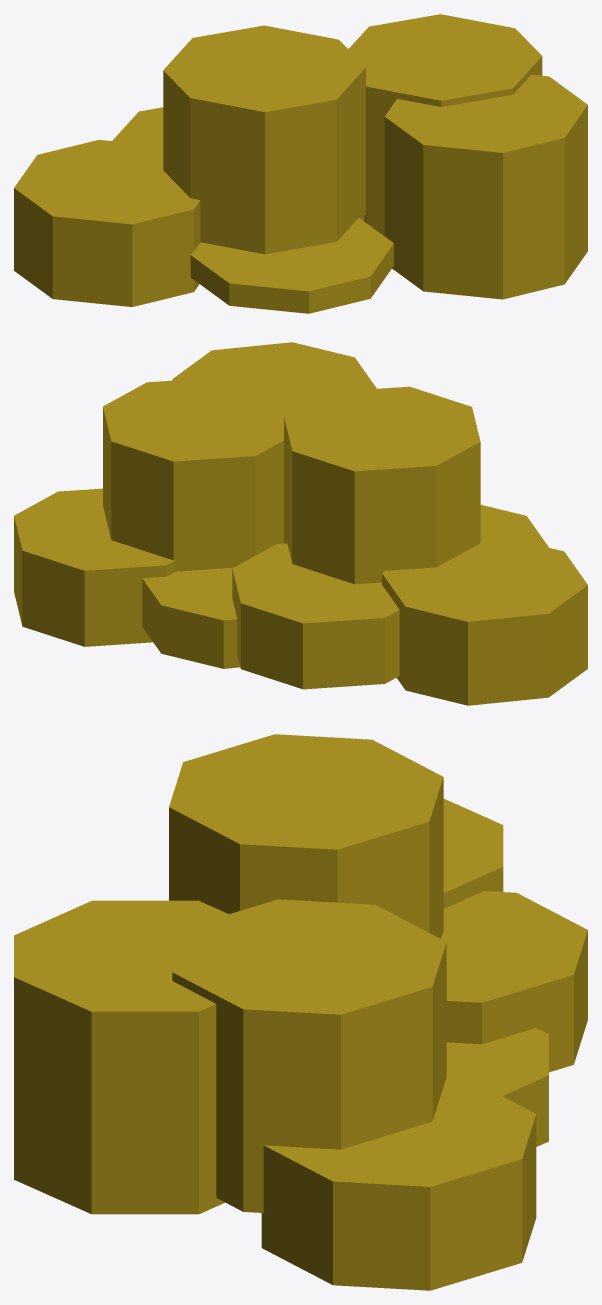
Rendered from Coin100.glb.
3 renders of one model, top to bottom at view 1: azimuth 30°, elevation 25°; view 2: azimuth 150°, elevation 25°; view 3: azimuth 270°, elevation 25°, orthographic. The views are drawn at different scales.
Visible parts, largest first — view 1: Cube.005; view 2: Cube.005; view 3: Cube.005.
Boxes of the visible parts, left/top/right/bottom form: Cube.005: left=14, top=14, right=587, bottom=313; Cube.005: left=14, top=342, right=587, bottom=705; Cube.005: left=14, top=734, right=587, bottom=1290.
Bounding box in the file's own units: 0.3247 × 0.1212 × 0.222.
